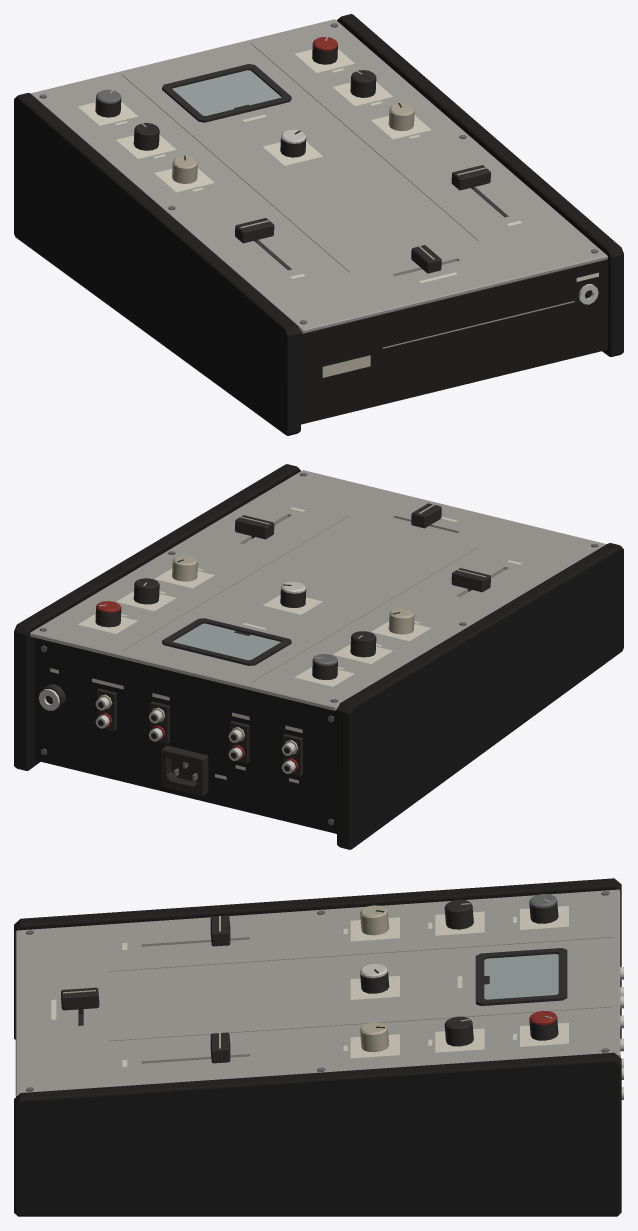
The model's file is dj-mixer-2ch-4d47825b6ef0.glb.
The picture shows the model from 3 angles, top to bottom: view 1: azimuth 30°, elevation 25°; view 2: azimuth 150°, elevation 25°; view 3: azimuth 270°, elevation 25°; orthographic projection. The views are drawn at different scales.
Visible parts, largest first — view 1: brushed, rubber, enamel-black, plastic-dark, decal-ink, glass-clear, plastic-light, chrome, decal-print; view 2: brushed, rubber, enamel-black, plastic-dark, decal-ink, glass-clear, plastic-light, chrome, metal; view 3: rubber, brushed, plastic-dark, decal-ink, glass-clear, plastic-light, chrome, metal.
Part boxes in pixels (x1=…): brushed: x1=30, y1=19, x2=607, y2=348; rubber: x1=14, y1=14, x2=623, y2=435; enamel-black: x1=294, y1=130, x2=608, y2=424; plastic-dark: x1=95, y1=45, x2=504, y2=273; decal-ink: x1=78, y1=49, x2=598, y2=282; glass-clear: x1=172, y1=70, x2=281, y2=115; plastic-light: x1=109, y1=36, x2=486, y2=259; chrome: x1=281, y1=129, x2=598, y2=304; decal-print: x1=322, y1=355, x2=370, y2=377; brushed: x1=30, y1=470, x2=606, y2=710; rubber: x1=14, y1=464, x2=623, y2=849; enamel-black: x1=34, y1=584, x2=337, y2=833; plastic-dark: x1=39, y1=503, x2=490, y2=795; decal-ink: x1=50, y1=507, x2=521, y2=783; glass-clear: x1=172, y1=623, x2=280, y2=660; plastic-light: x1=98, y1=504, x2=486, y2=754; chrome: x1=38, y1=582, x2=306, y2=773; metal: x1=39, y1=472, x2=598, y2=825; rubber: x1=14, y1=878, x2=621, y2=1216; brushed: x1=15, y1=889, x2=620, y2=1096; plastic-dark: x1=61, y1=899, x2=620, y2=1063; decal-ink: x1=51, y1=906, x2=568, y2=1066; glass-clear: x1=484, y1=954, x2=558, y2=999; plastic-light: x1=63, y1=899, x2=552, y2=1052; chrome: x1=360, y1=964, x2=623, y2=1099; metal: x1=26, y1=891, x2=609, y2=1091.
Size of the model in its own units: 0.254 by 0.1109 by 0.3594.
